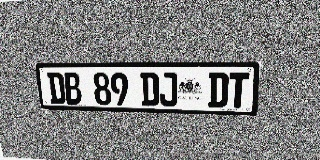8: (93, 72, 112, 105)
9: (110, 72, 129, 105)
B: (63, 72, 83, 104)
D: (208, 72, 229, 108), (140, 72, 159, 106), (47, 72, 66, 104)
J: (159, 72, 177, 107)
T: (228, 72, 250, 108)
